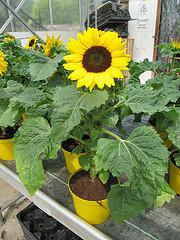sunflower: (64, 27, 131, 91)
